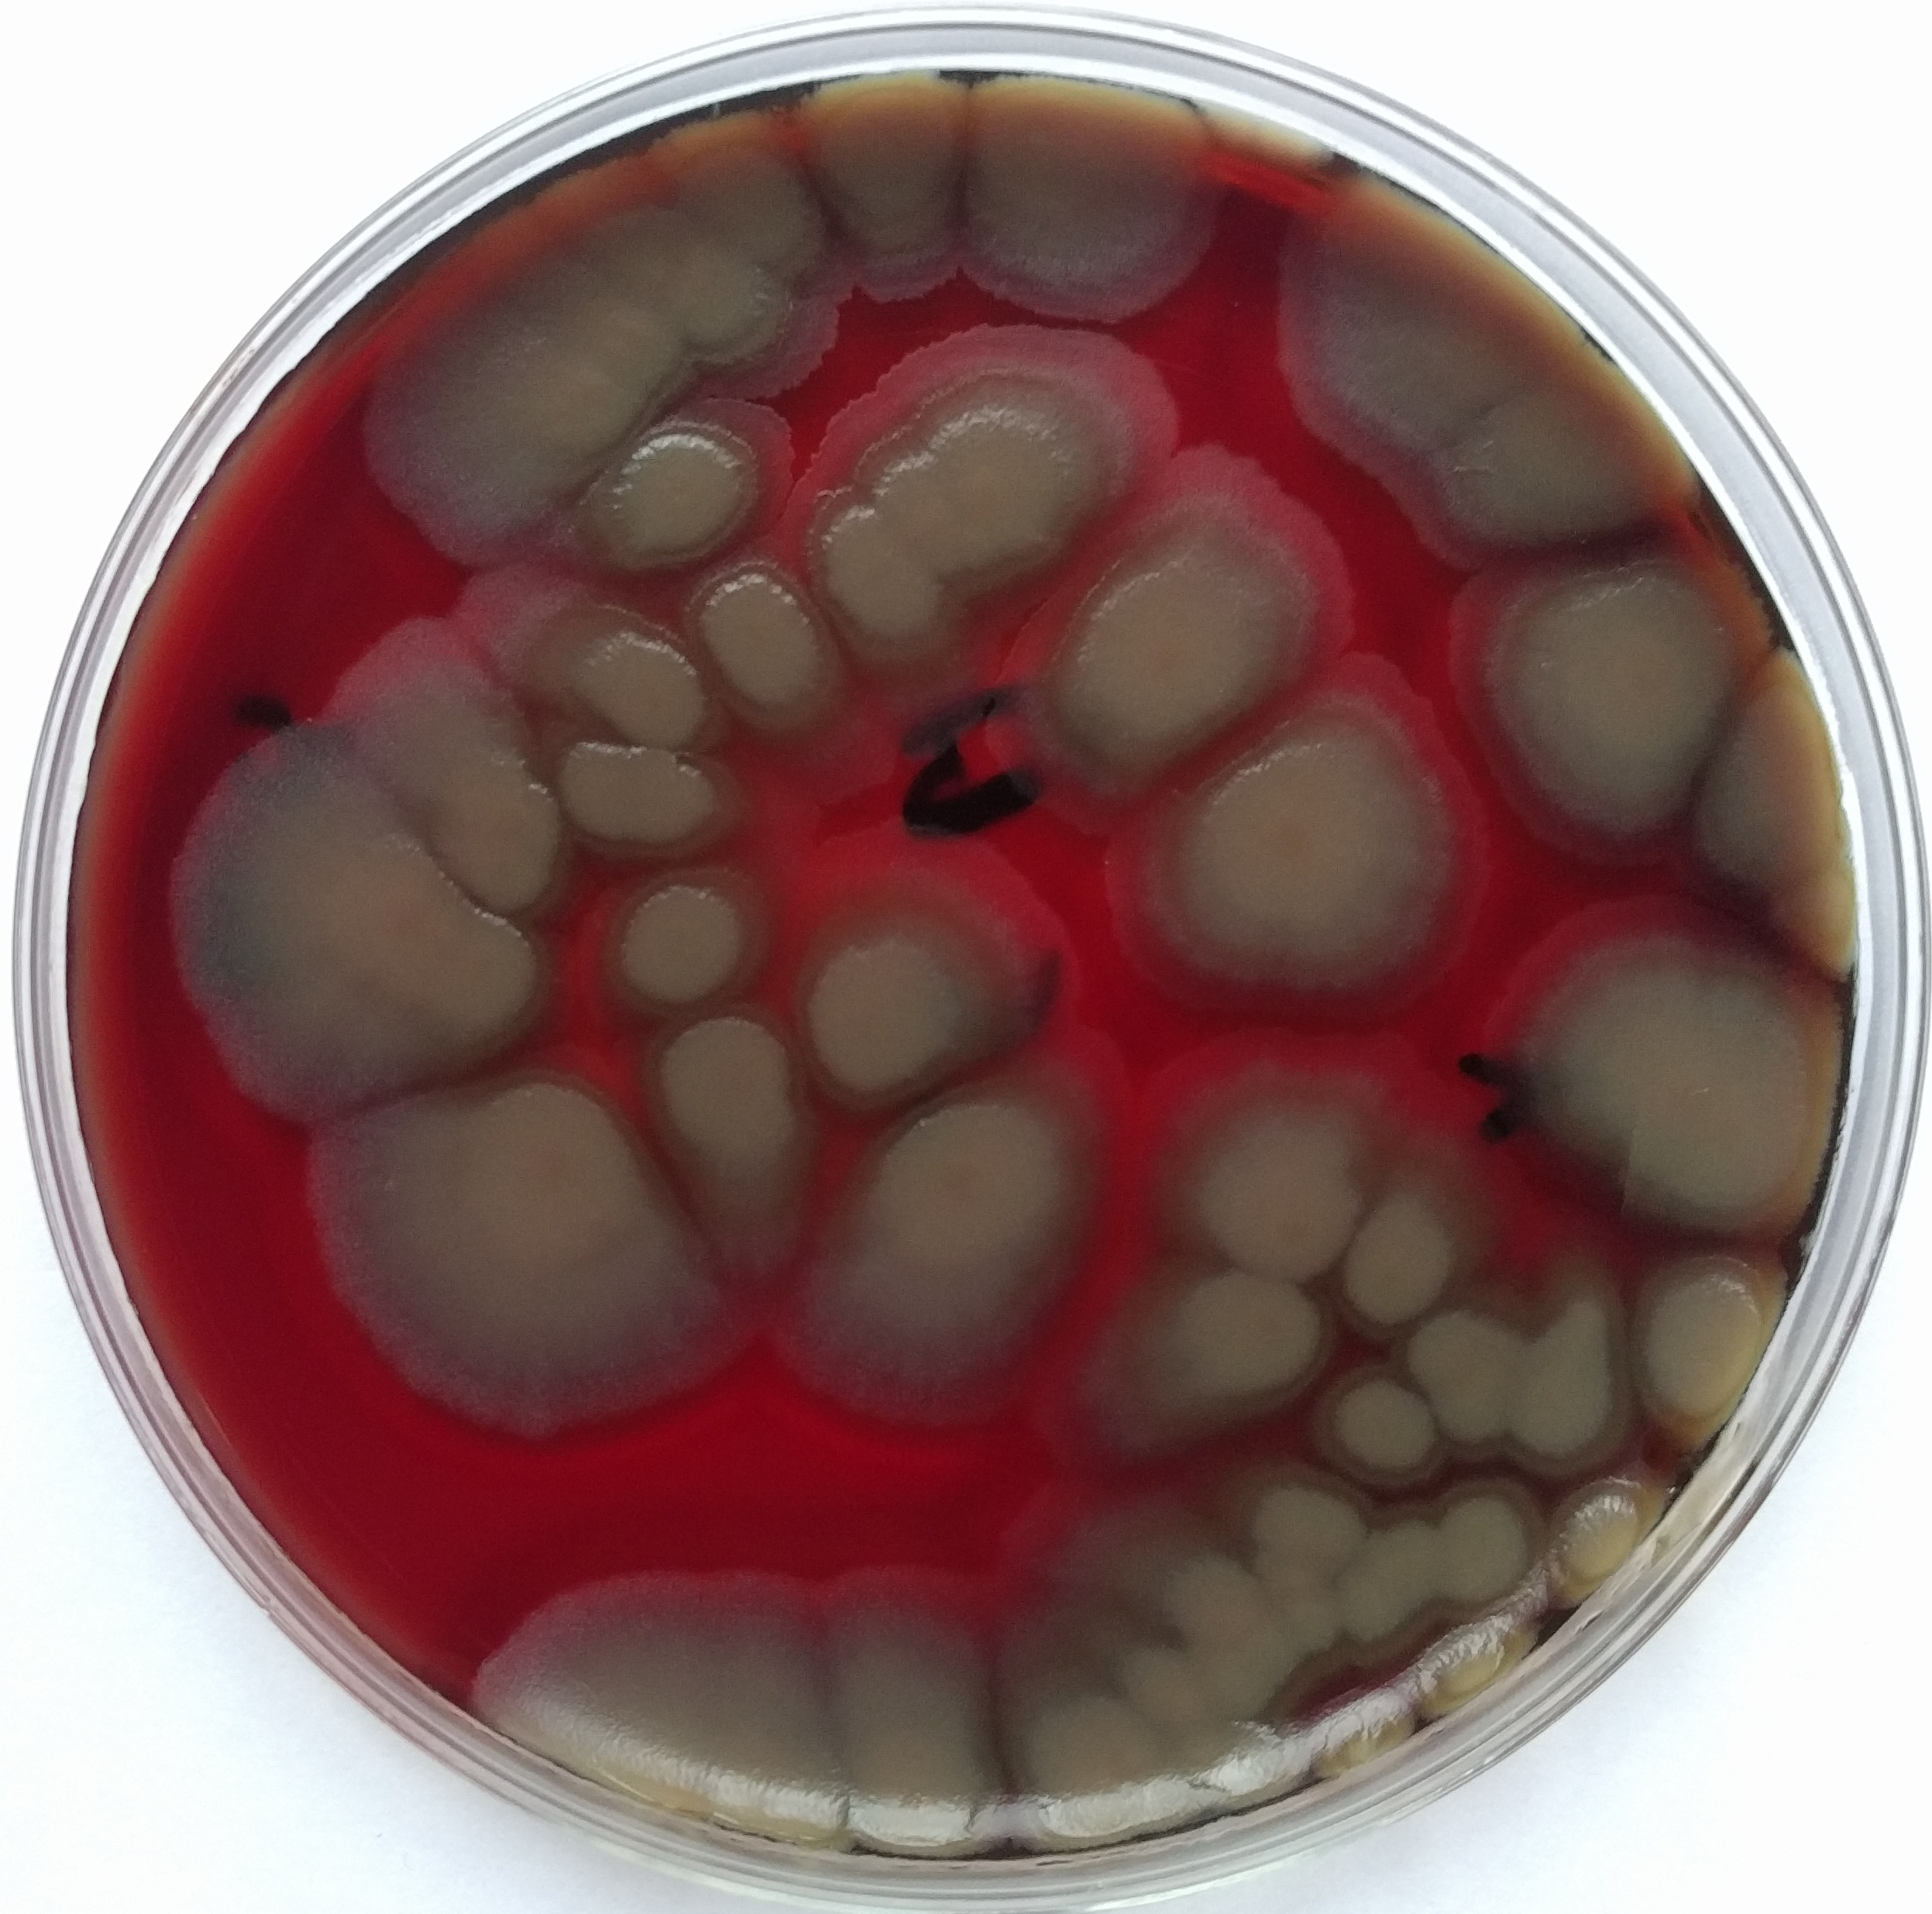sp04: (240, 1031, 784, 1430), (144, 680, 584, 1109), (459, 1511, 870, 1914), (992, 435, 1396, 819), (752, 1041, 1147, 1427), (1129, 673, 1499, 1069), (1506, 878, 1881, 1257), (813, 296, 1206, 634), (1431, 542, 1772, 840), (761, 822, 1080, 1120), (1262, 133, 1553, 456), (307, 577, 584, 901), (1399, 301, 1723, 568), (971, 47, 1243, 349), (1022, 1246, 1345, 1497), (822, 1551, 1048, 1905), (742, 32, 998, 328), (1140, 1031, 1411, 1288), (624, 985, 824, 1318), (333, 323, 570, 563), (501, 587, 747, 783), (496, 689, 752, 859), (542, 393, 794, 563), (1318, 1124, 1502, 1353), (1623, 1246, 1799, 1486), (777, 470, 936, 722), (563, 843, 768, 1027), (710, 526, 875, 741), (1073, 1500, 1294, 1655), (1516, 1236, 1657, 1451), (1287, 1343, 1457, 1507), (1394, 1297, 1553, 1462), (605, 205, 780, 344), (1019, 1683, 1166, 1837), (1425, 1471, 1564, 1630), (1552, 1460, 1676, 1630), (519, 252, 682, 382), (689, 102, 813, 254), (1346, 1521, 1432, 1655), (1108, 1646, 1213, 1753), (1266, 1495, 1376, 1569)
